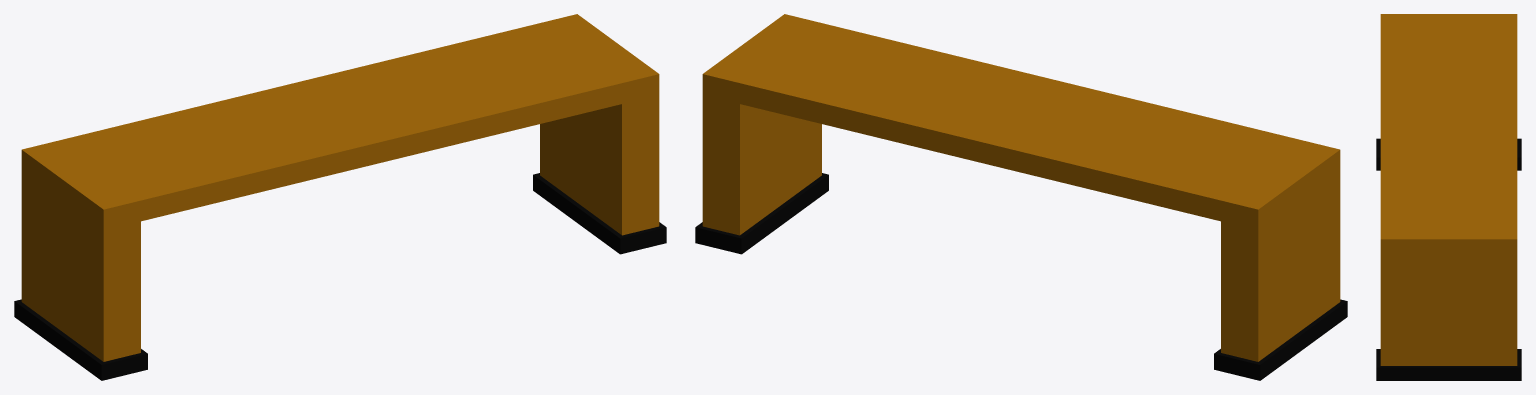
Rendered from Bench_01.fbx.
3 renders of one model, left to right at view 1: azimuth 30°, elevation 25°; view 2: azimuth 150°, elevation 25°; view 3: azimuth 270°, elevation 25°, orthographic. The views are drawn at different scales.
Visible parts, largest first — view 1: Bench_01; view 2: Bench_01; view 3: Bench_01.
Boxes of the visible parts, left/top/right/bottom form: Bench_01: left=14, top=14, right=666, bottom=380; Bench_01: left=695, top=14, right=1347, bottom=380; Bench_01: left=1376, top=14, right=1521, bottom=380.
Bounding box in the file's own units: 203 × 57.88 × 54.42.
